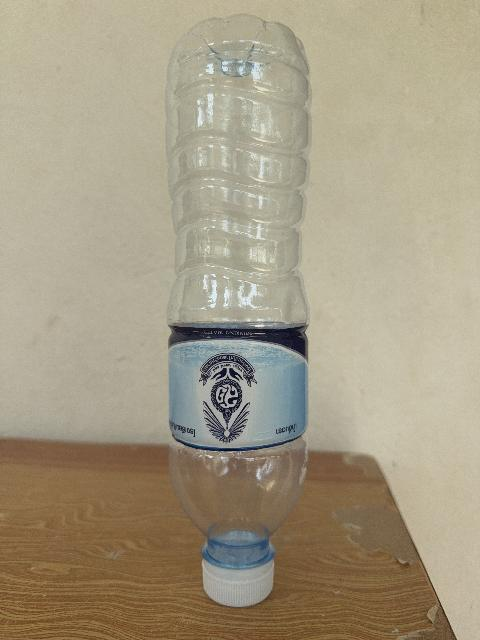bottle: (167, 15, 310, 606)
